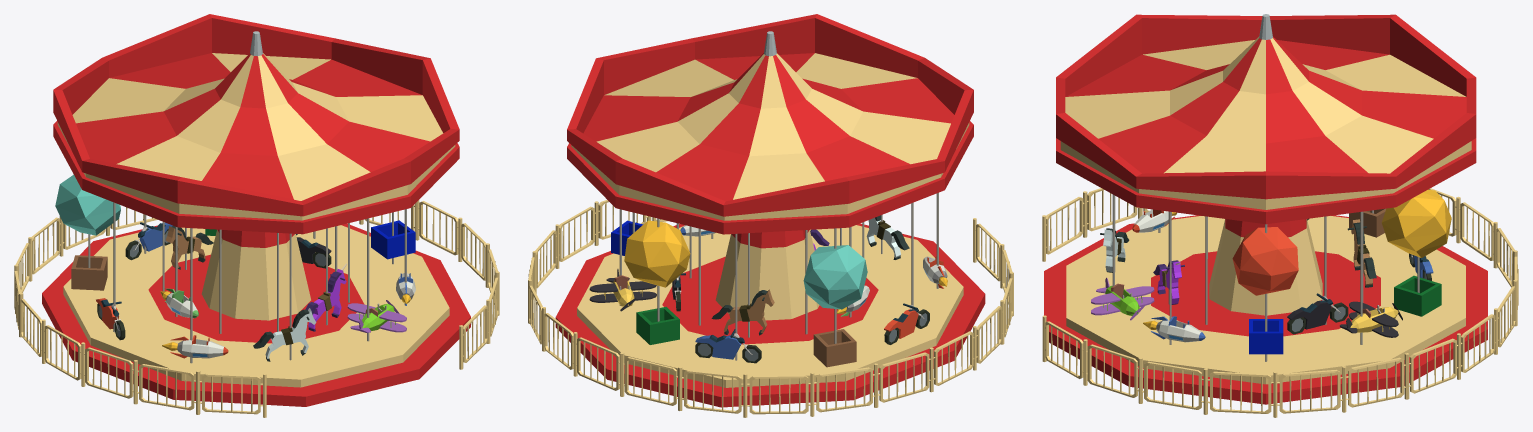
Rendered from Carousel.fbx.
3 views of the same model, side by side, from view 1: azimuth 30°, elevation 25°; view 2: azimuth 150°, elevation 25°; view 3: azimuth 270°, elevation 25° (orthographic). The views are drawn at different scales.
Parts seen in each view (by area): view 1: Carousel_Rotate, Carousel_Base; view 2: Carousel_Rotate, Carousel_Base; view 3: Carousel_Rotate, Carousel_Base.
Boxes of the visible parts, <box> form: Carousel_Rotate: <box>53,14,459,387</box>; Carousel_Base: <box>14,200,499,417</box>; Carousel_Rotate: <box>567,14,973,387</box>; Carousel_Base: <box>528,200,1013,417</box>; Carousel_Rotate: <box>1056,14,1476,384</box>; Carousel_Base: <box>1042,188,1518,417</box>.
Size of the model in its own units: 829 by 533 by 779.
